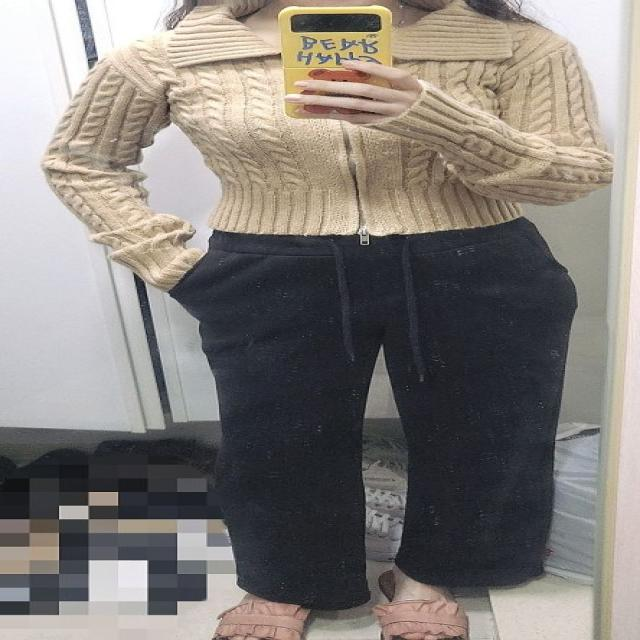cardigan: (38, 0, 611, 290)
trainingpants: (170, 214, 580, 610)
